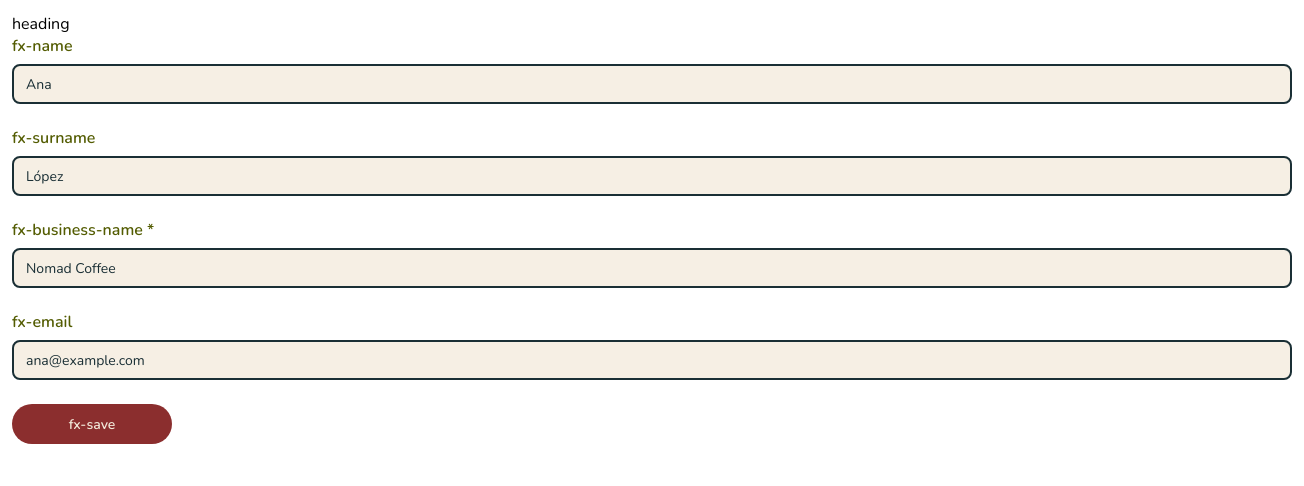
Test case: ProfileForm — the business name › An emptied business name shows requiredError, is invalid, takes focus and nothing is sent
Clear the field labelled "fx-business-name *": {"x": 652, "y": 268} [12,248,1292,288]
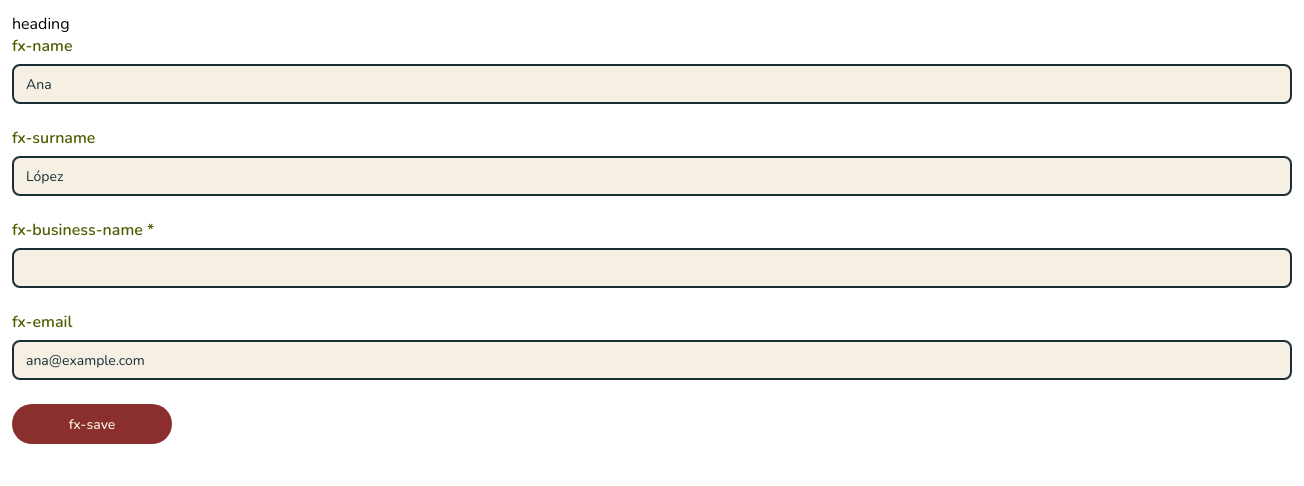
Click the button "fx-save": {"x": 92, "y": 424} [12,404,172,444]
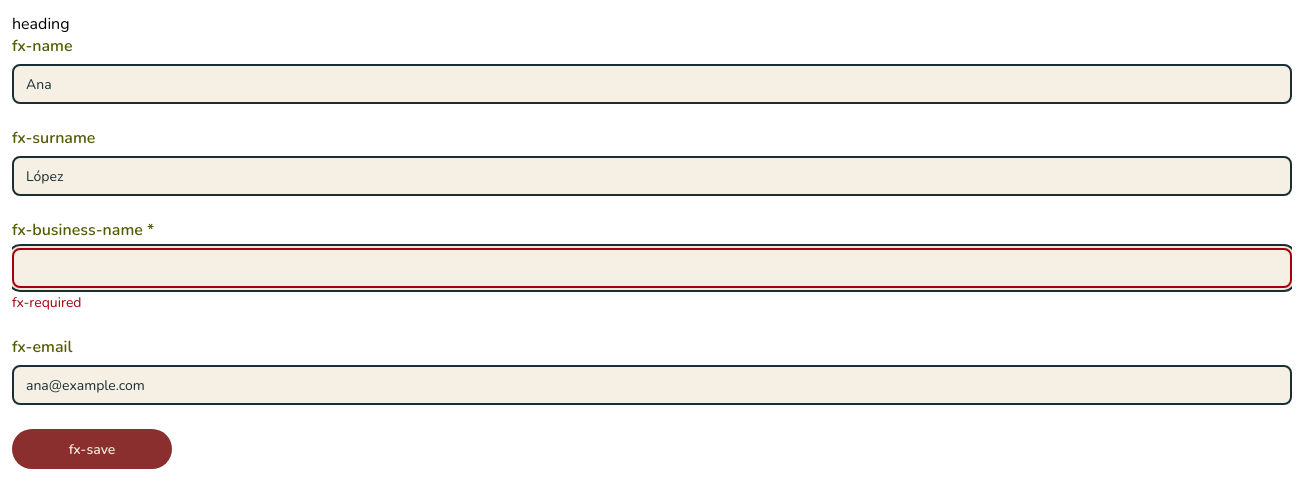
Result: the text "fx-required" is shown at [12,293,82,312]
